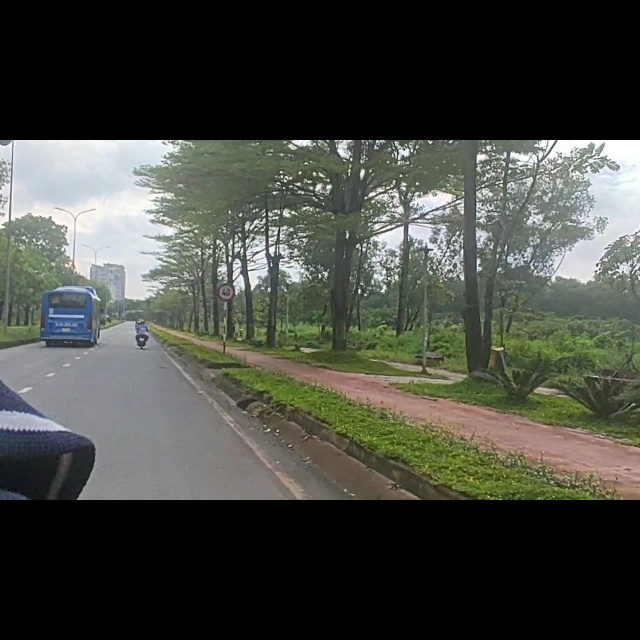Tốc độ tối đa cho phép 40km/h: (217, 284, 235, 302)
